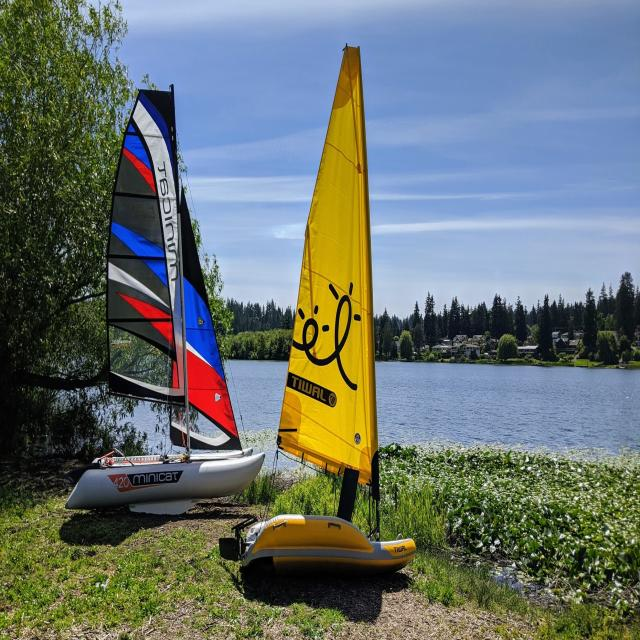boat: (236, 24, 424, 606), (61, 67, 267, 526)
